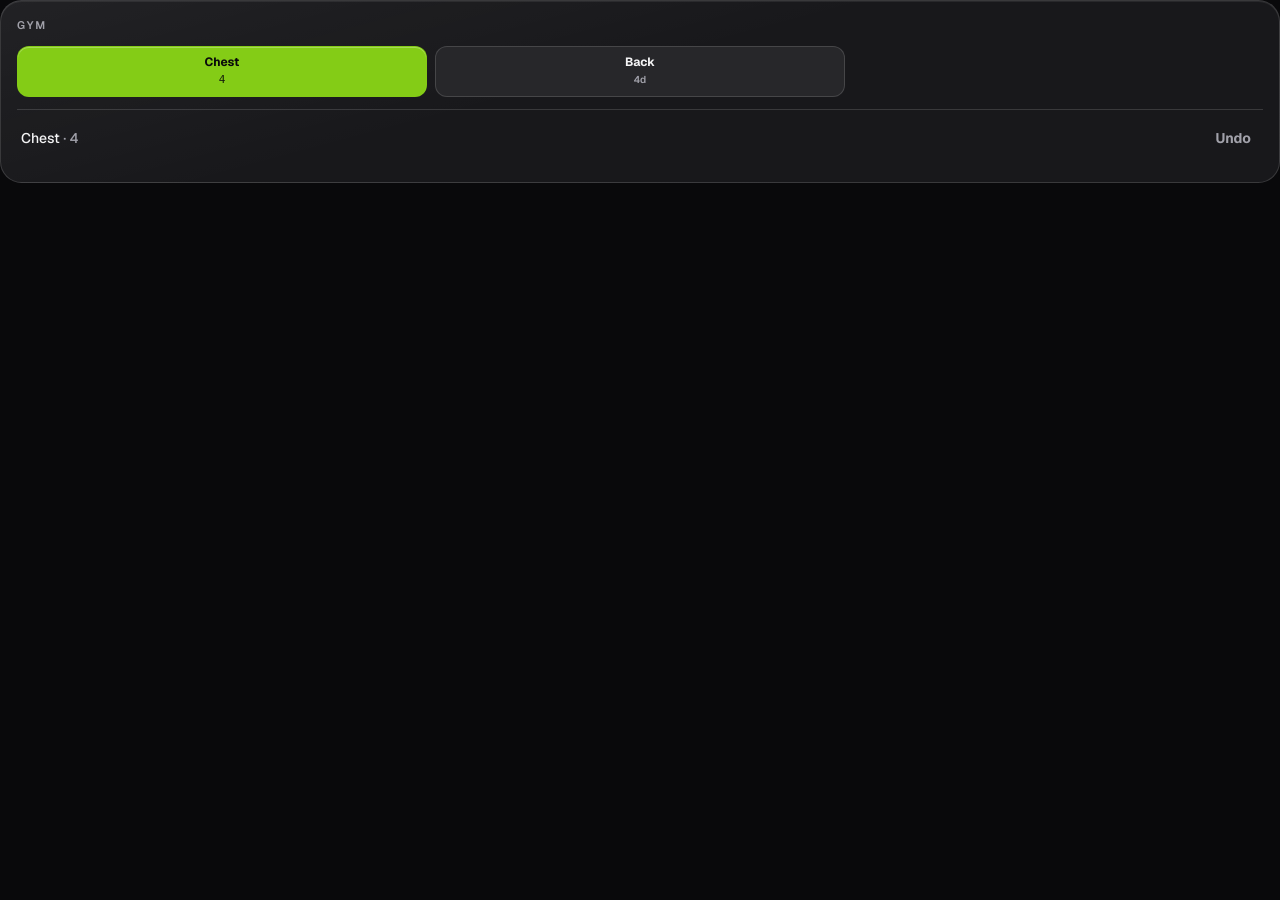
Test: GymBar › lets a second muscle stay tappable while another undo is in flight
Click the button with aria-label "Back, last hit 4d ago" at {"x": 640, "y": 71}, box [435,46,845,97]
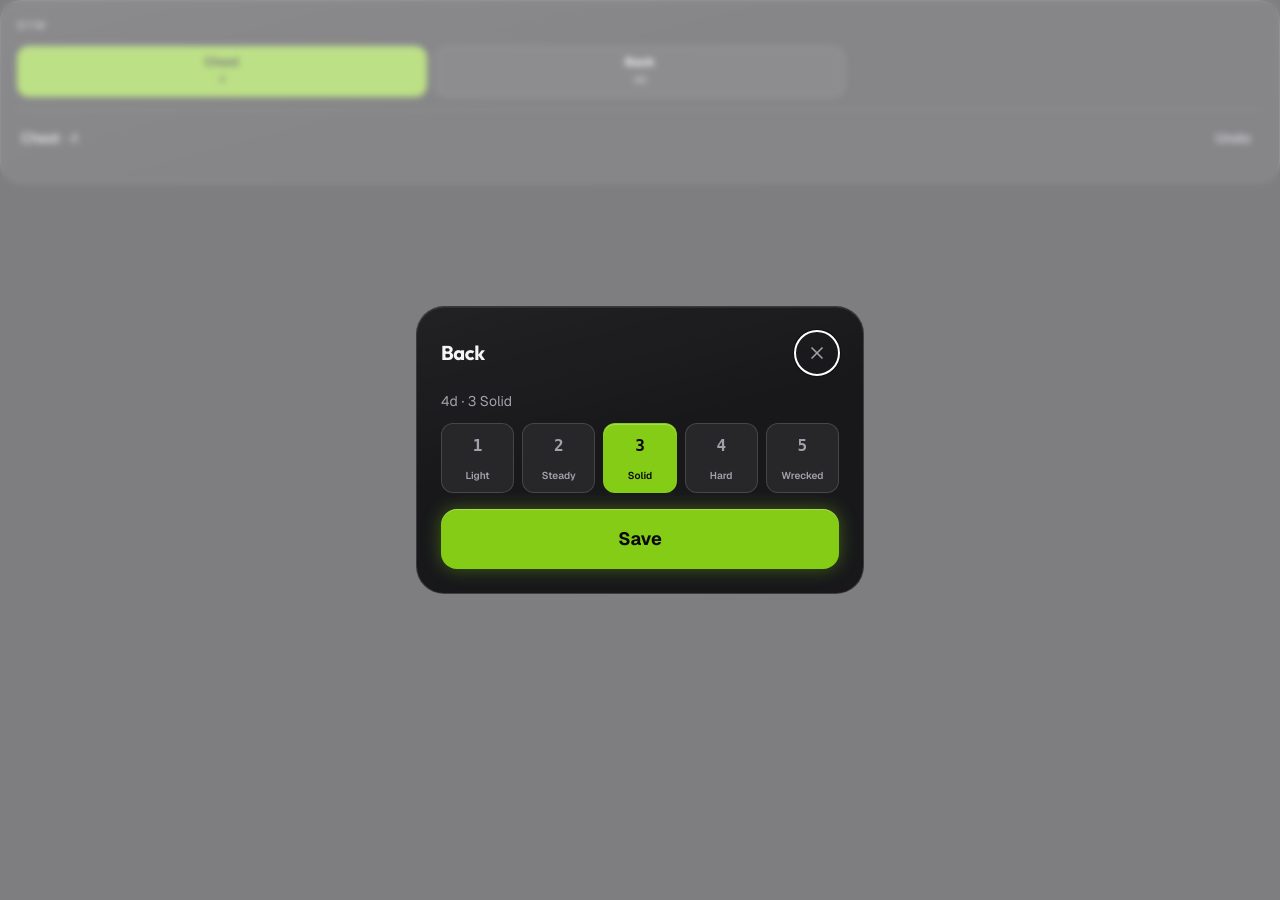
Expected: the dialog "Back" is shown, [416,306,864,594]
Expected: the text "4d · 3 Solid" is shown, [441,392,512,410]
